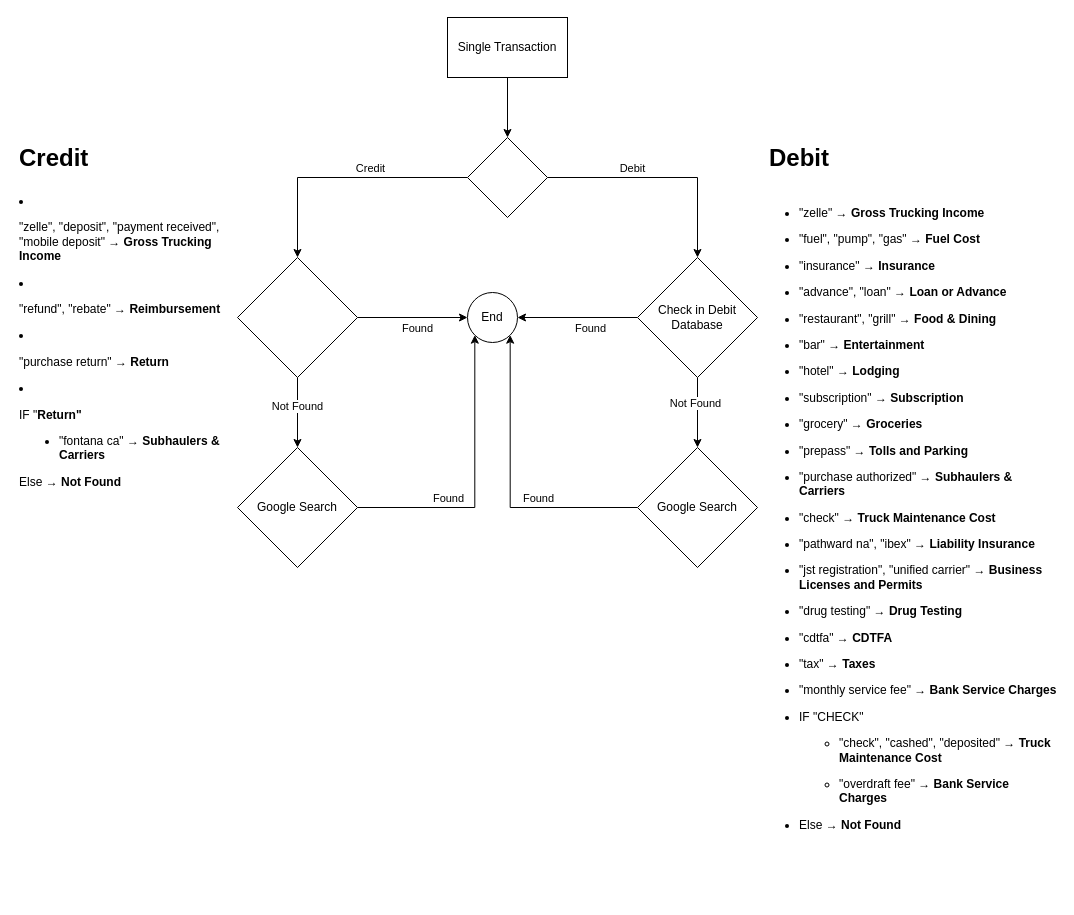
Image size: 1074x915. Some labels were removed from this diagram. The shapes that lost their labels are listed below. From the top down, each one's box as (x1, y1, x2, y2) in pixels, then its label:
(466, 136, 548, 218): Check Amount
(236, 256, 358, 378): Check in Credit Database
